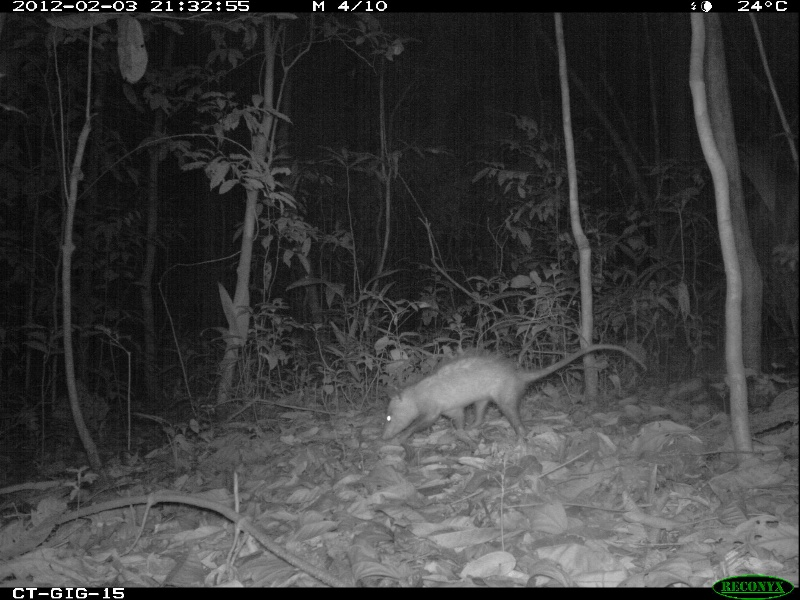opossum: (378, 338, 658, 450)
